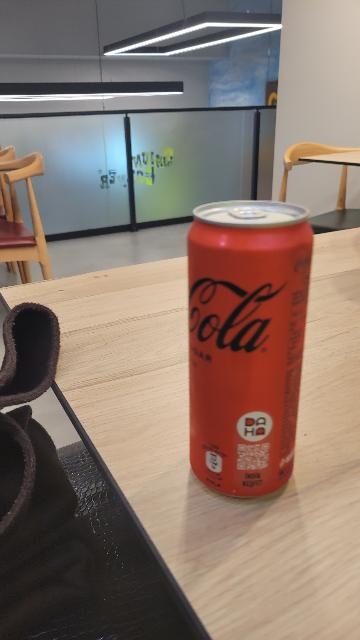Metal: (186, 197, 315, 502)
